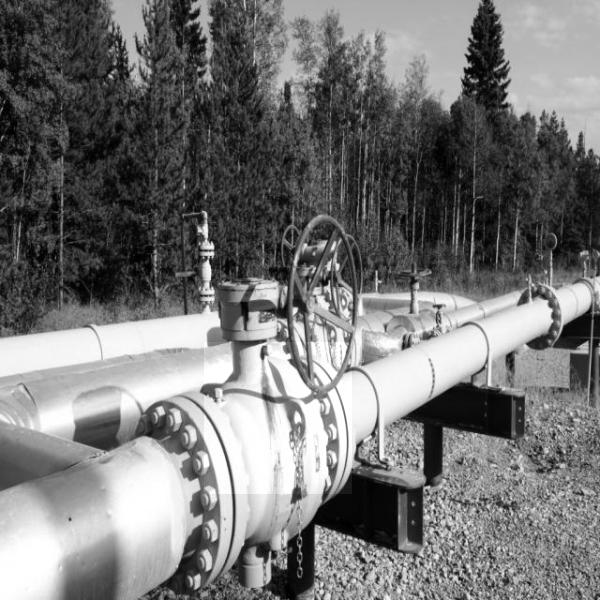no leak: (204, 342, 352, 494)
